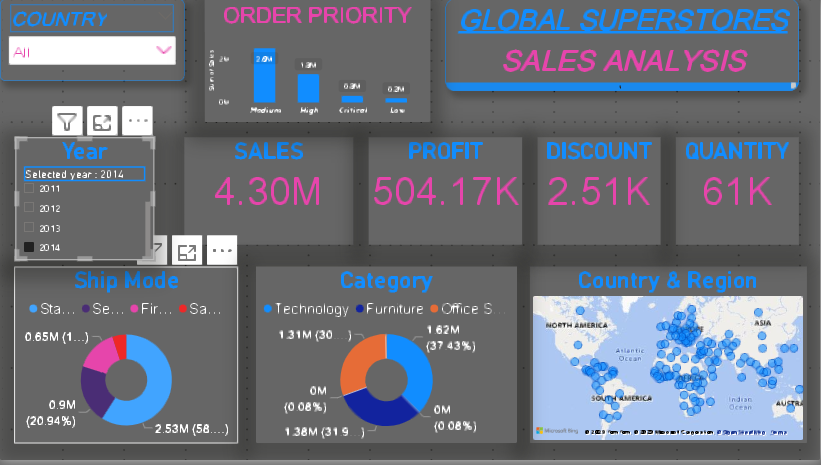

The page's visual inventory and layout, read from the dashboard file:
{"tool":"powerbi","page":{"name":"Page 1","canvas":[1280,720],"ordinal":0},"visuals":[{"type":"slicer","title":"Year","fields":{"Values":["Orders.FYI"]},"box":[21.6,203.5,214.3,198.1],"z":0},{"type":"card","title":"SALES","fields":{"Values":["Sum(Orders.Sales)"]},"box":[264.9,205.4,256.8,145.9],"z":1000},{"type":"map","title":" Country & Region","fields":{"Category":["Orders.Country","Orders.Region"]},"box":[827,418.9,432.4,275.7],"z":2000},{"type":"pieChart","title":"Ship Mode","fields":{"Category":["Orders.Ship Mode"],"Y":["Sum(Orders.Sales)"]},"box":[21.6,418.9,351.4,275.7],"z":3000},{"type":"card","title":"QUANTITY","fields":{"Values":["Sum(Orders.Quantity)"]},"box":[1064.9,202.7,194.6,145.9],"z":4000},{"type":"card","title":"DISCOUNT","fields":{"Values":["Sum(Orders.Discount)"]},"box":[827,205.4,216.2,143.2],"z":5000},{"type":"textbox","title":"GLOBAL SUPERSTORES ","box":[640.5,13.5,618.9,132.4],"z":6000},{"type":"image","box":[21.6,2.7,213.5,200],"z":7000},{"type":"card","title":"PROFIT","fields":{"Values":["Sum(Orders.Profit)"]},"box":[556.4,205.5,250.9,149.1],"z":8000},{"type":"slicer","fields":{"Values":["Orders.Country"]},"box":[286.5,13.5,300,118.9],"z":9000},{"type":"pieChart","title":"Category","fields":{"Y":["Sum(Orders.Sales)"],"Category":["Orders.Category"]},"box":[400,418.9,408.1,275.7],"z":10000}]}

Visuals, with their boxes in screenshot pixels (x1, y1, x2, y2), scaled from the page's 1280x720 canvas onto the 821x465 screenshot:
"Year" slicer: <bbox>14, 131, 151, 259</bbox>
"SALES" card: <bbox>170, 133, 335, 227</bbox>
" Country & Region" map: <bbox>530, 271, 808, 449</bbox>
"Ship Mode" pieChart: <bbox>14, 271, 239, 449</bbox>
"QUANTITY" card: <bbox>683, 131, 808, 225</bbox>
"DISCOUNT" card: <bbox>530, 133, 669, 225</bbox>
"GLOBAL SUPERSTORES " textbox: <bbox>411, 9, 808, 94</bbox>
image: <bbox>14, 2, 151, 131</bbox>
"PROFIT" card: <bbox>357, 133, 518, 229</bbox>
slicer - Orders.Country: <bbox>184, 9, 376, 86</bbox>
"Category" pieChart: <bbox>257, 271, 518, 449</bbox>
